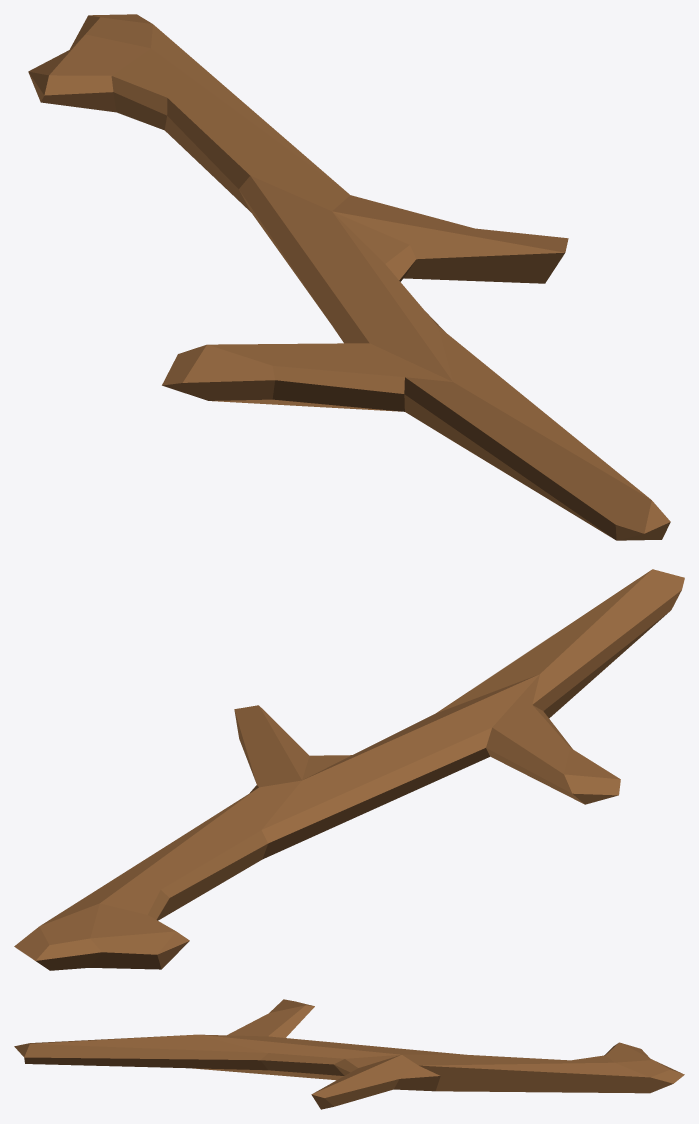
Rendered from stick1.fbx.
3 renders of one model, top to bottom at view 1: azimuth 30°, elevation 25°; view 2: azimuth 150°, elevation 25°; view 3: azimuth 270°, elevation 25°, orthographic. The views are drawn at different scales.
Visible parts, largest first — view 1: Stick; view 2: Stick; view 3: Stick.
Part boxes in pixels (x1,y1,x2,y2): Stick: (28, 14, 670, 540); Stick: (14, 569, 684, 970); Stick: (14, 999, 684, 1109).
Size of the model in its own units: 191 by 25.44 by 508.
